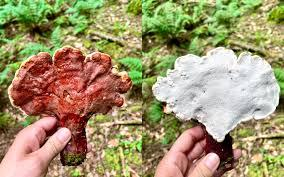Ganoderma - Fruit Body: (150, 46, 282, 141), (8, 45, 133, 121)
